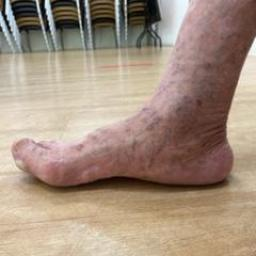Medial View -Right Foot-: (3, 74, 250, 204)
